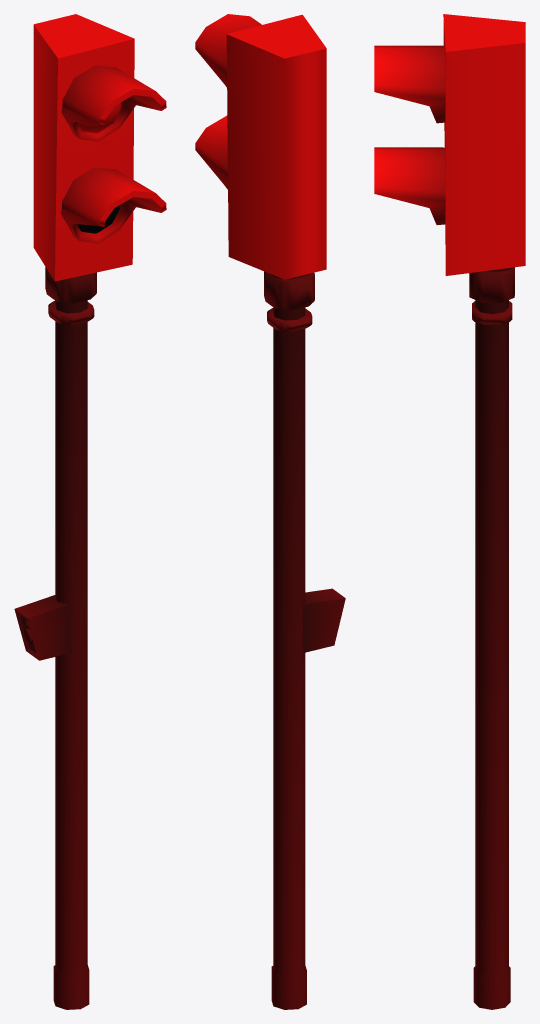
File: YellowTrafficLight003.glb
3 renders of one model, left to right at view 1: azimuth 30°, elevation 25°; view 2: azimuth 210°, elevation 25°; view 3: azimuth 270°, elevation 25°, orthographic.
Parts seen in each view (by area): view 1: YellowTrafficLight003; view 2: YellowTrafficLight003; view 3: YellowTrafficLight003.
Boxes of the visible parts, x1,y1,x2,y2 form: YellowTrafficLight003: (14, 14, 166, 1009); YellowTrafficLight003: (195, 14, 345, 1009); YellowTrafficLight003: (374, 14, 525, 1009).
Size of the model in its own units: 1.27 by 13.02 by 1.84.
